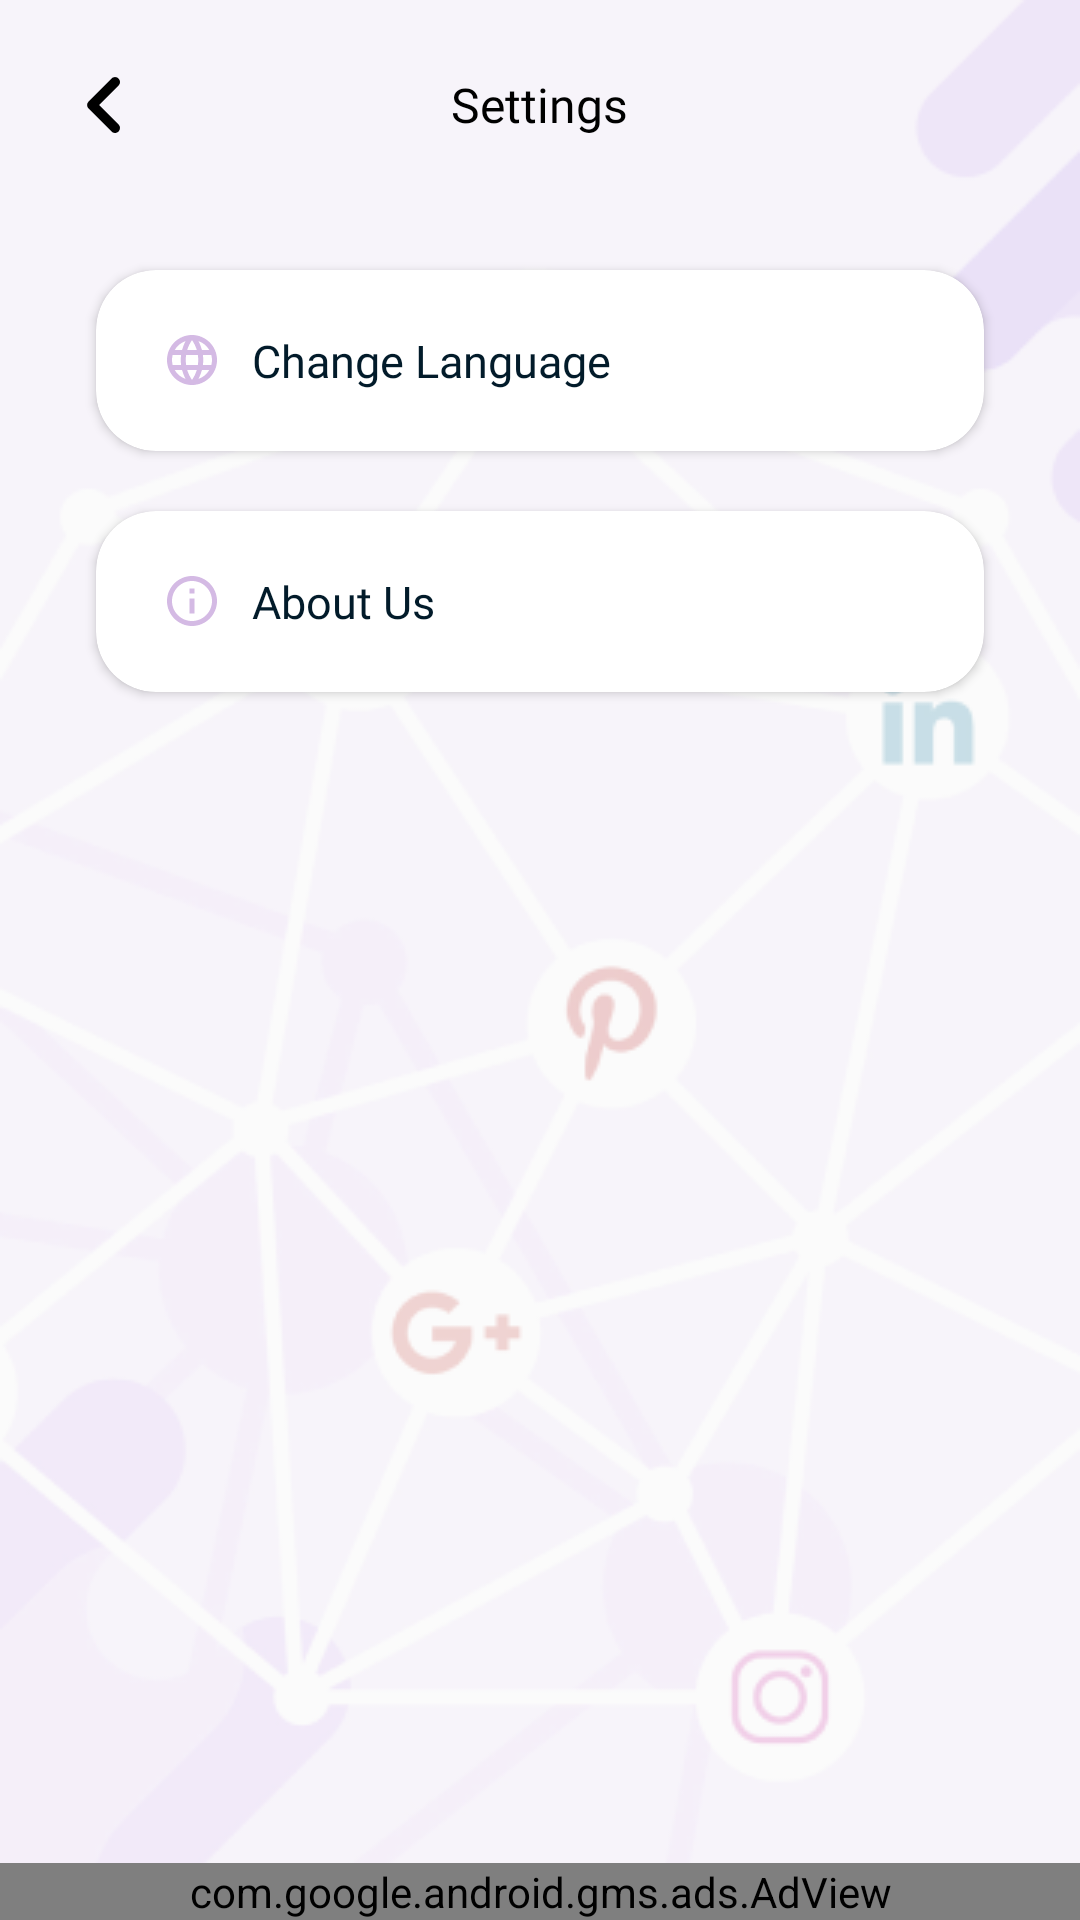

Icon click points for this 1080px×1920px phone screenshot, format [x,y]:
back: [103,105]
